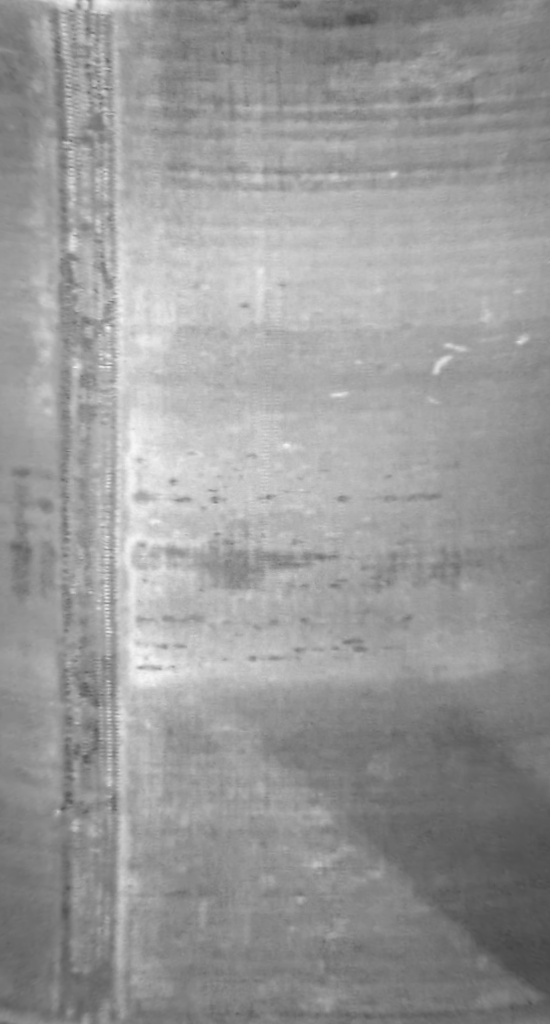splice: (42, 1, 139, 1021)
